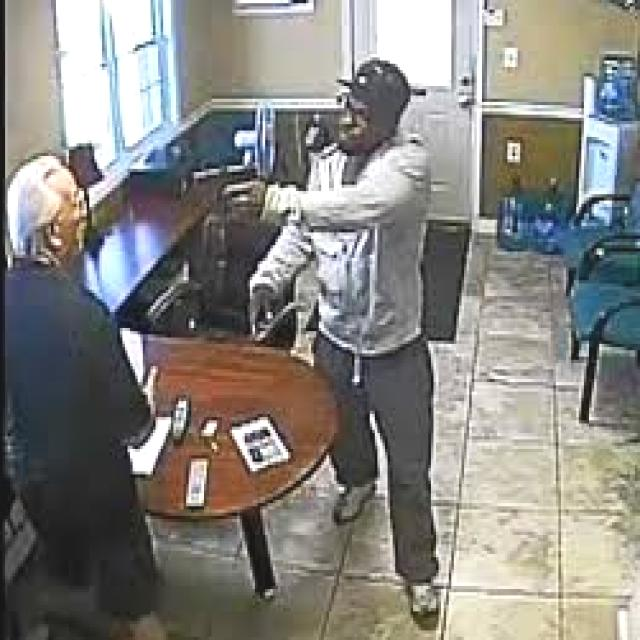pistol: (196, 150, 263, 232)
